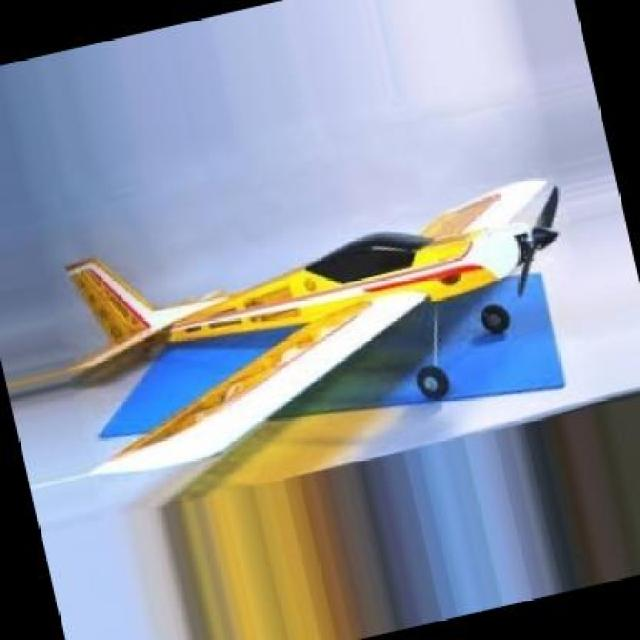iha: (49, 168, 576, 473)
